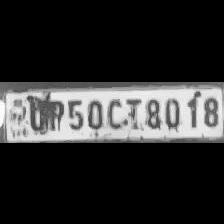0: (162, 95, 182, 129), (84, 97, 104, 129)
1: (182, 94, 198, 130)
5: (64, 97, 84, 130)
8: (142, 94, 162, 130), (200, 94, 220, 128)
C: (106, 96, 127, 130)
P: (44, 94, 66, 130)
T: (121, 94, 141, 130)
U: (26, 97, 46, 133)
